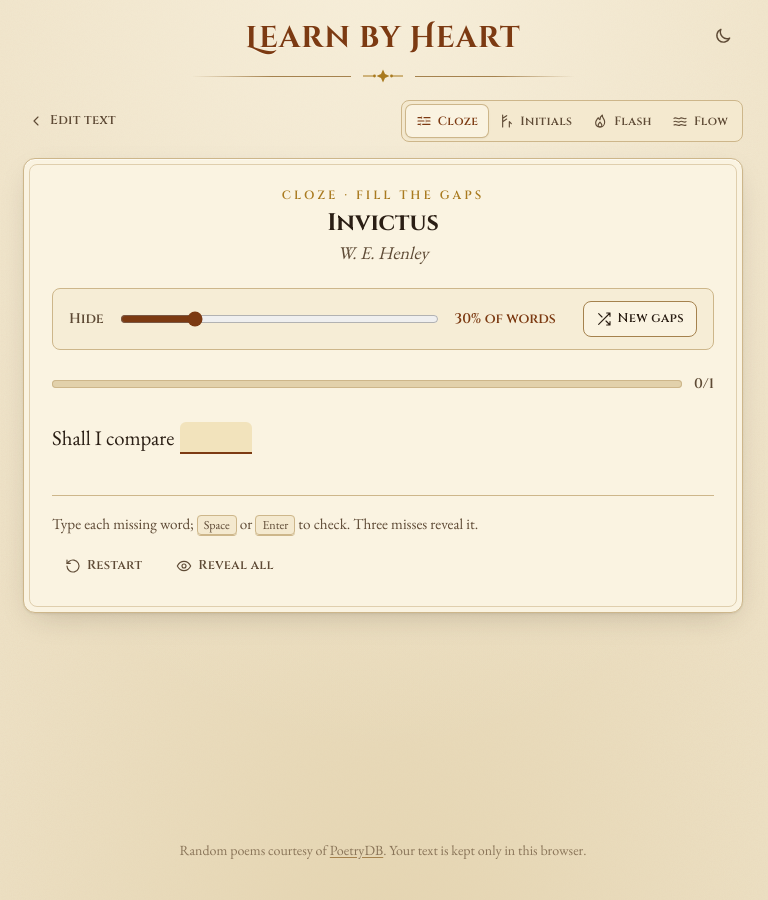
Test: cloze mode › reveals all remaining words on request
Click the button "Reveal all" at (225, 566), box [163,548,287,584]
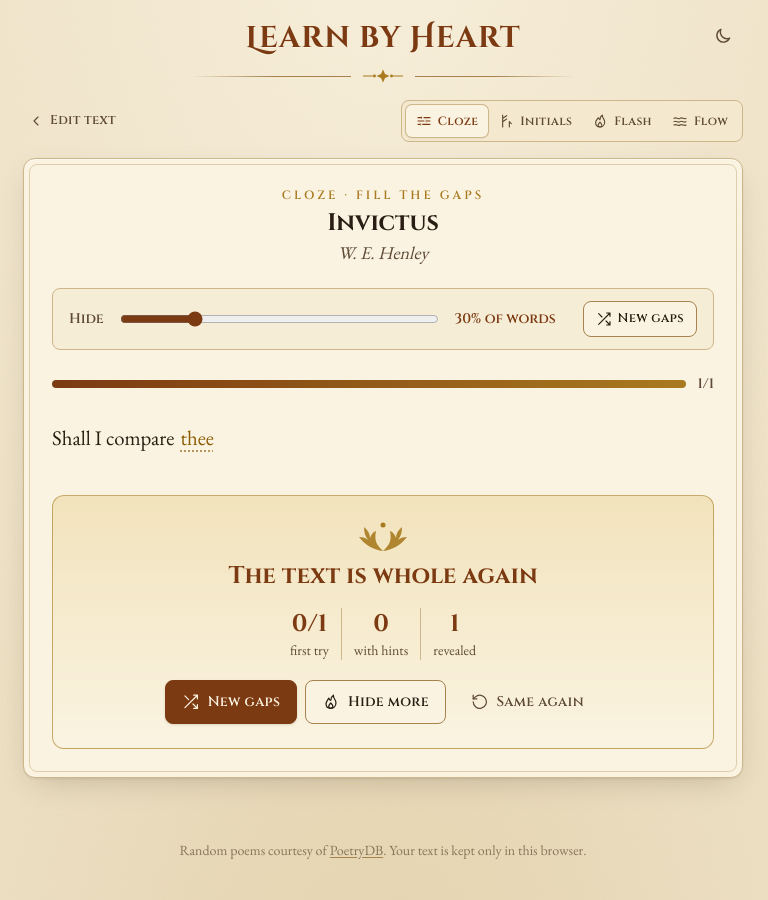
Check: no fields labelled "missing word" are shown
Check: the message is shown, box [52,495,714,749]
